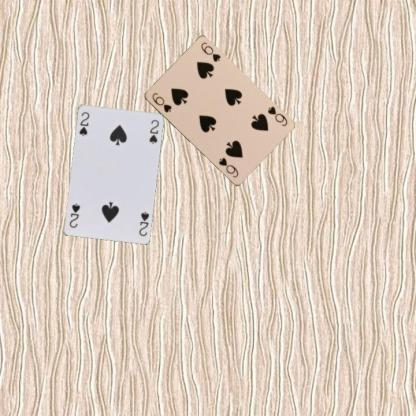2s: (136, 208, 150, 237), (76, 109, 90, 137)
6s: (149, 90, 173, 114), (265, 104, 288, 127)
